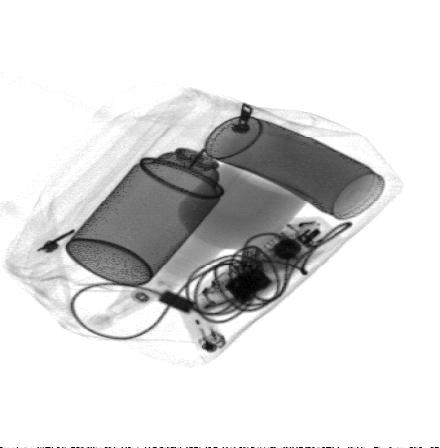Lighter: (172, 285, 229, 356)
Sprayer: (66, 121, 252, 287)
